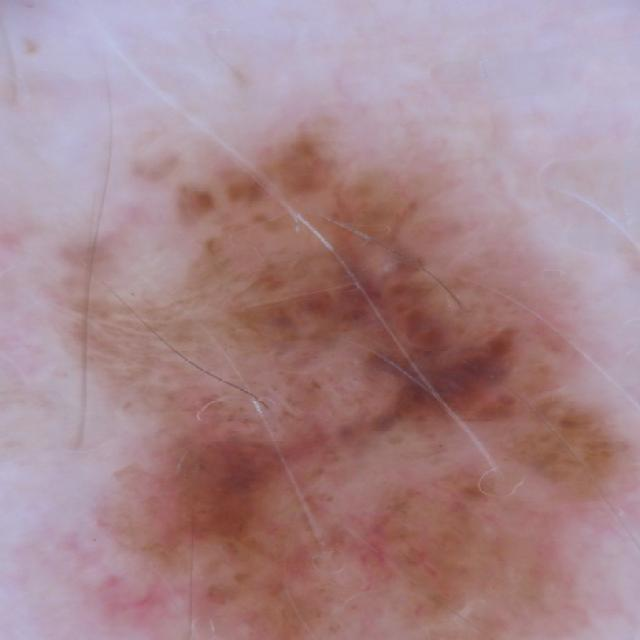Melanoma: (33, 123, 622, 640)
